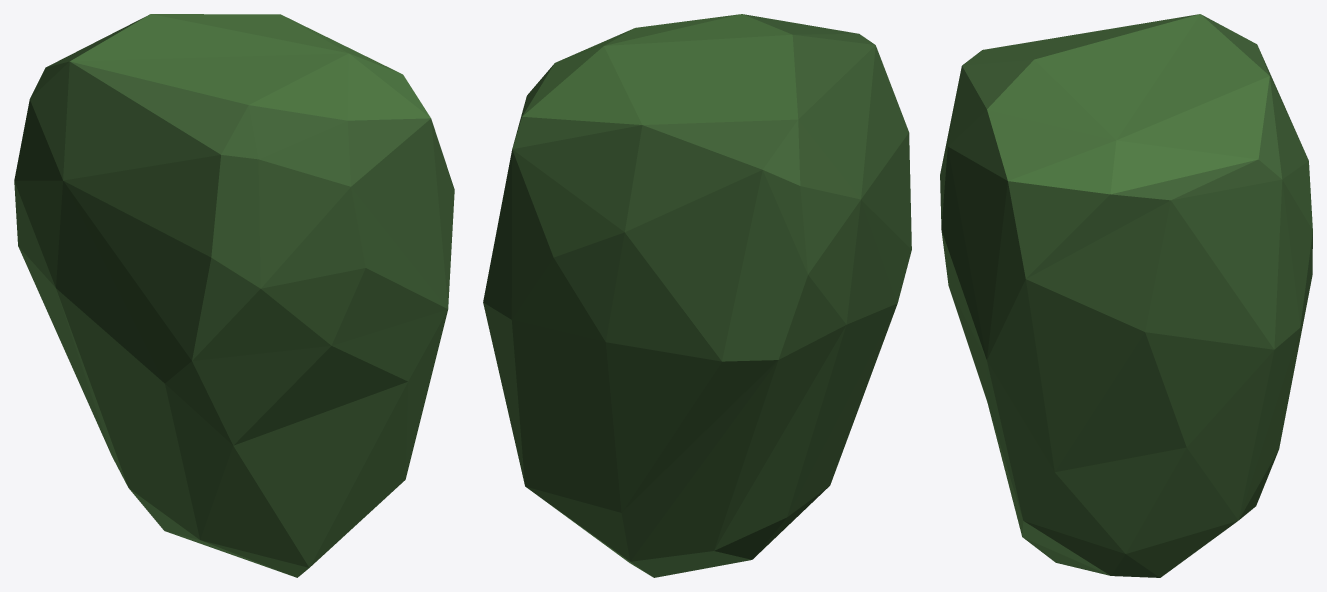
Rendered from SM_Env_Bush_03.fbx.
The picture shows the model from 3 angles, left to right: view 1: azimuth 30°, elevation 25°; view 2: azimuth 150°, elevation 25°; view 3: azimuth 270°, elevation 25°; orthographic projection. The views are drawn at different scales.
Visible parts, largest first — view 1: SM_Env_Bush_03; view 2: SM_Env_Bush_03; view 3: SM_Env_Bush_03.
Boxes of the visible parts, x1,y1,x2,y2 form: SM_Env_Bush_03: [14, 14, 454, 577]; SM_Env_Bush_03: [483, 14, 911, 577]; SM_Env_Bush_03: [940, 14, 1312, 577].
Bounding box in the file's own units: 0.0106 × 0.0152 × 0.0108.
Materials: 1 (1 with a texture image).
